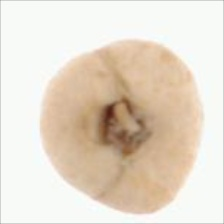L3: (96, 94, 152, 160)
L4: (40, 38, 203, 214)
